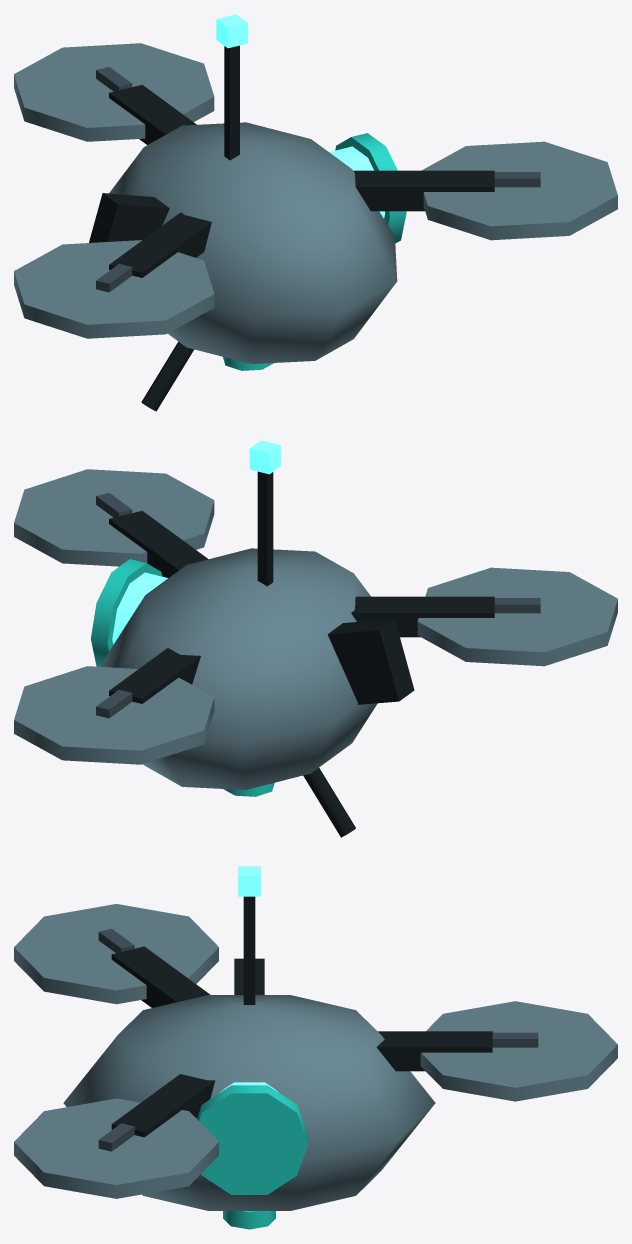
File: invocador_dron_2.glb
3 renders of one model, top to bottom at view 1: azimuth 30°, elevation 25°; view 2: azimuth 150°, elevation 25°; view 3: azimuth 270°, elevation 25°, orthographic.
Visible parts, largest first — view 1: invocador_dron_2; view 2: invocador_dron_2; view 3: invocador_dron_2.
Boxes of the visible parts, box(x1,y1,x2,y2) form: invocador_dron_2: box(14, 14, 617, 411); invocador_dron_2: box(14, 440, 617, 837); invocador_dron_2: box(14, 866, 617, 1229).
Size of the model in its own units: 0.3505 by 0.213 by 0.318.
